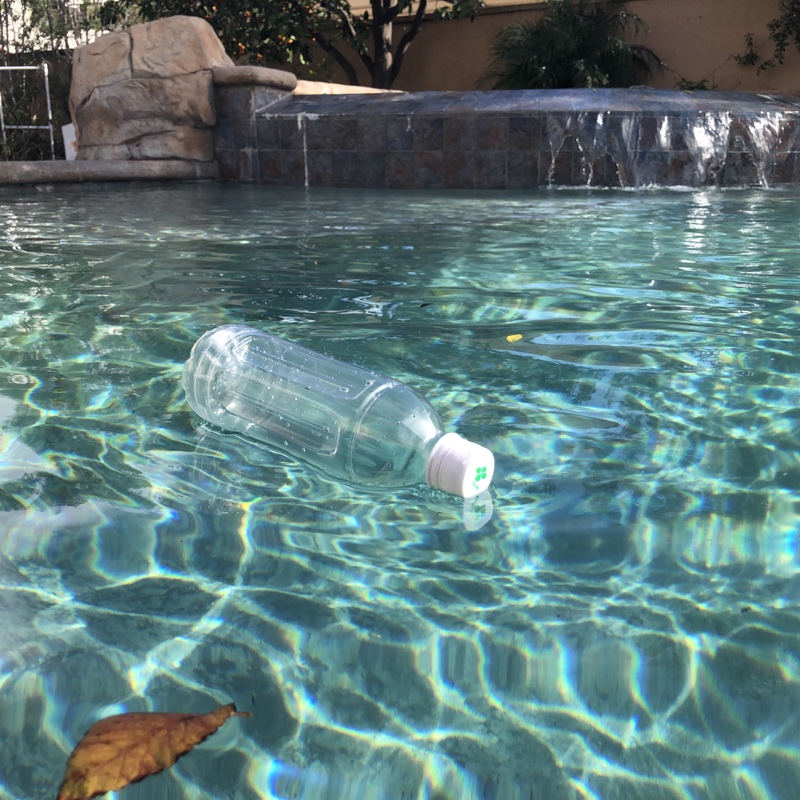Plastic Bottle: (180, 318, 496, 505)
